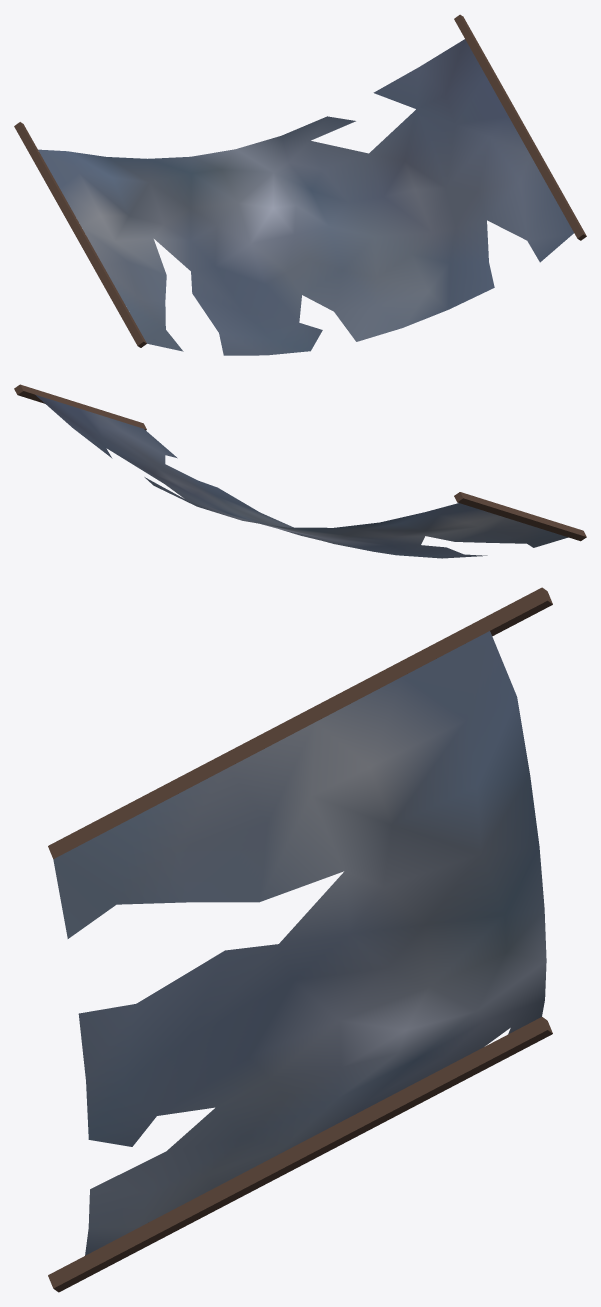
File: Prop_OverhangG.fbx
3 renders of one model, top to bottom at view 1: azimuth 30°, elevation 25°; view 2: azimuth 150°, elevation 25°; view 3: azimuth 270°, elevation 25°, orthographic. The views are drawn at different scales.
Visible parts, largest first — view 1: Prop_OverhangG; view 2: Prop_OverhangG; view 3: Prop_OverhangG.
Boxes of the visible parts, x1=… form: Prop_OverhangG: x1=14, y1=14, x2=586, y2=355; Prop_OverhangG: x1=14, y1=384, x2=586, y2=558; Prop_OverhangG: x1=48, y1=587, x2=552, y2=1292.
Bounding box in the file's own units: 500 × 204 × 243.
